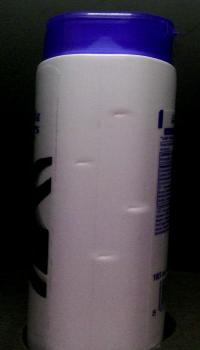dent_unacceptable: (84, 249, 133, 265), (67, 154, 100, 172), (103, 107, 142, 122), (121, 199, 152, 216)
